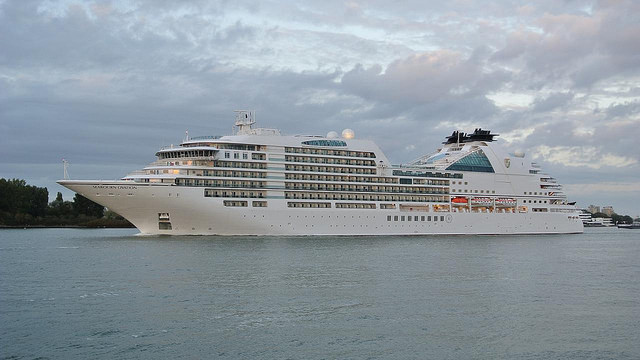cruise_ship: (55, 110, 592, 235)
